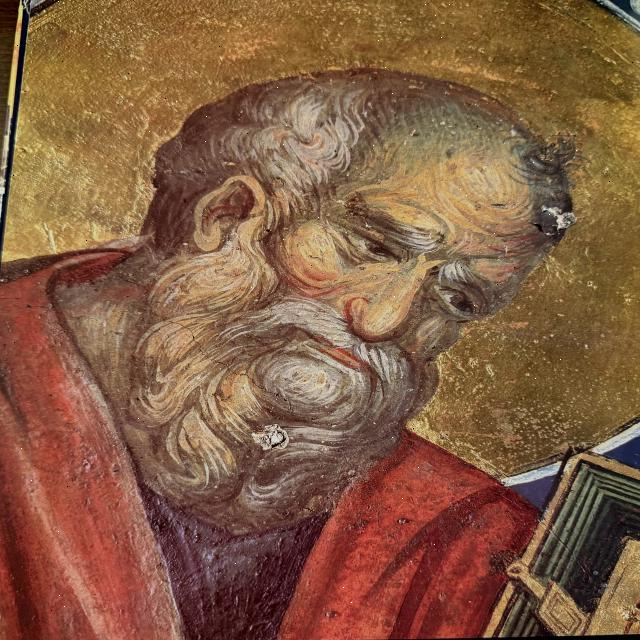saint: (90, 64, 587, 610)
